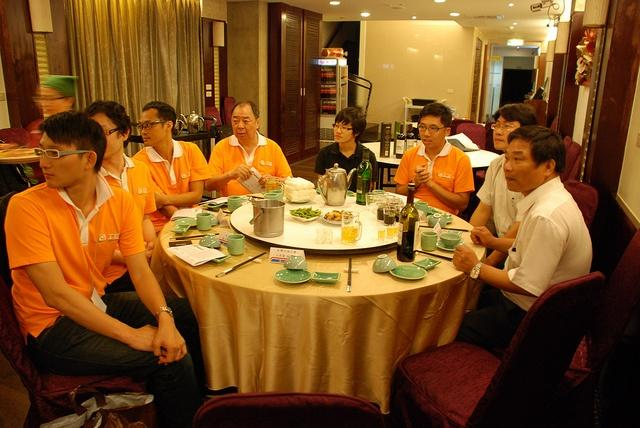Kursi: (394, 271, 604, 427)
Lemari: (278, 1, 322, 164)
